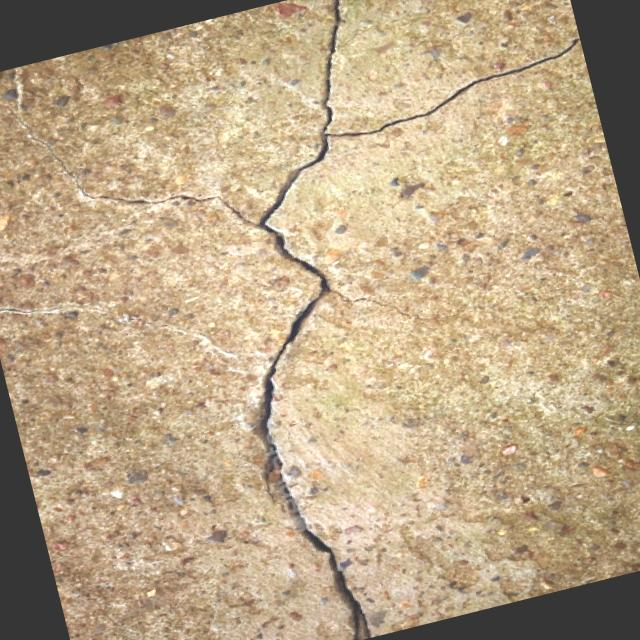crack: (203, 212, 419, 640), (204, 0, 602, 226), (0, 22, 251, 291), (0, 252, 234, 410)
